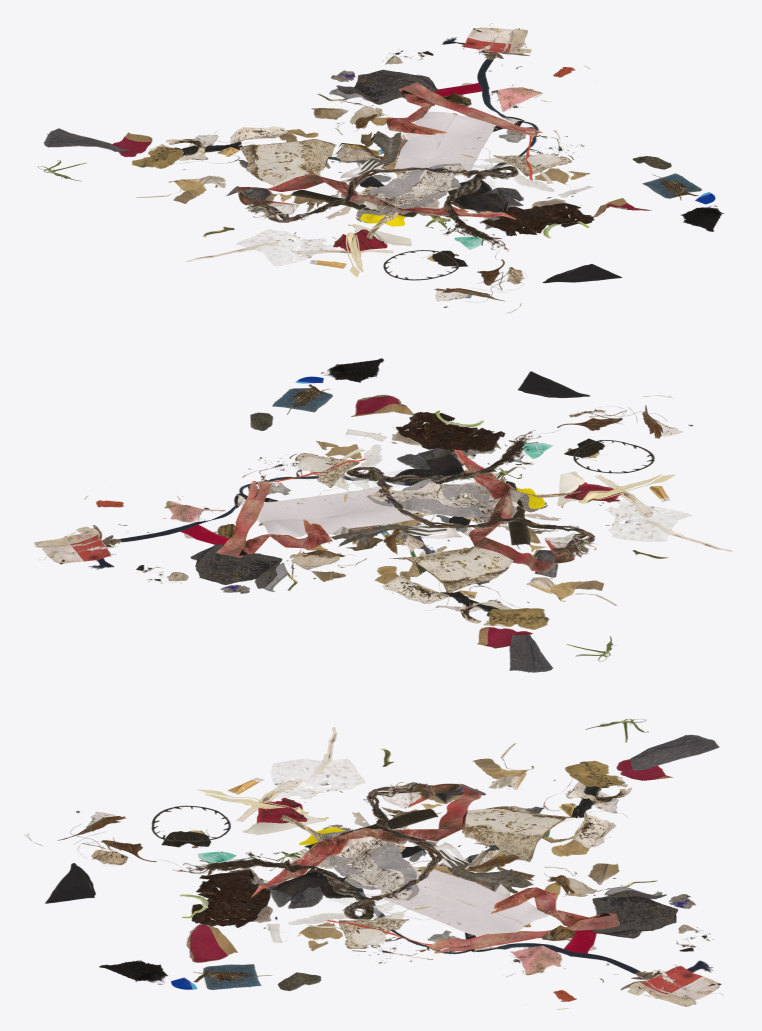
The model's file is SM_Laji02.glb.
3 views of the same model, one above another, from view 1: azimuth 30°, elevation 25°; view 2: azimuth 150°, elevation 25°; view 3: azimuth 270°, elevation 25° (orthographic). The views are drawn at different scales.
Parts seen in each view (by area): view 1: SM_LaJi02; view 2: SM_LaJi02; view 3: SM_LaJi02.
Boxes of the visible parts, x1=… form: SM_LaJi02: x1=37, y1=23, x2=724, y2=313; SM_LaJi02: x1=34, y1=358, x2=732, y2=672; SM_LaJi02: x1=24, y1=719, x2=723, y2=1009.
Bounding box in the file's own units: 1.88 × 0.0543 × 1.9.
1 material, 1 textured.
